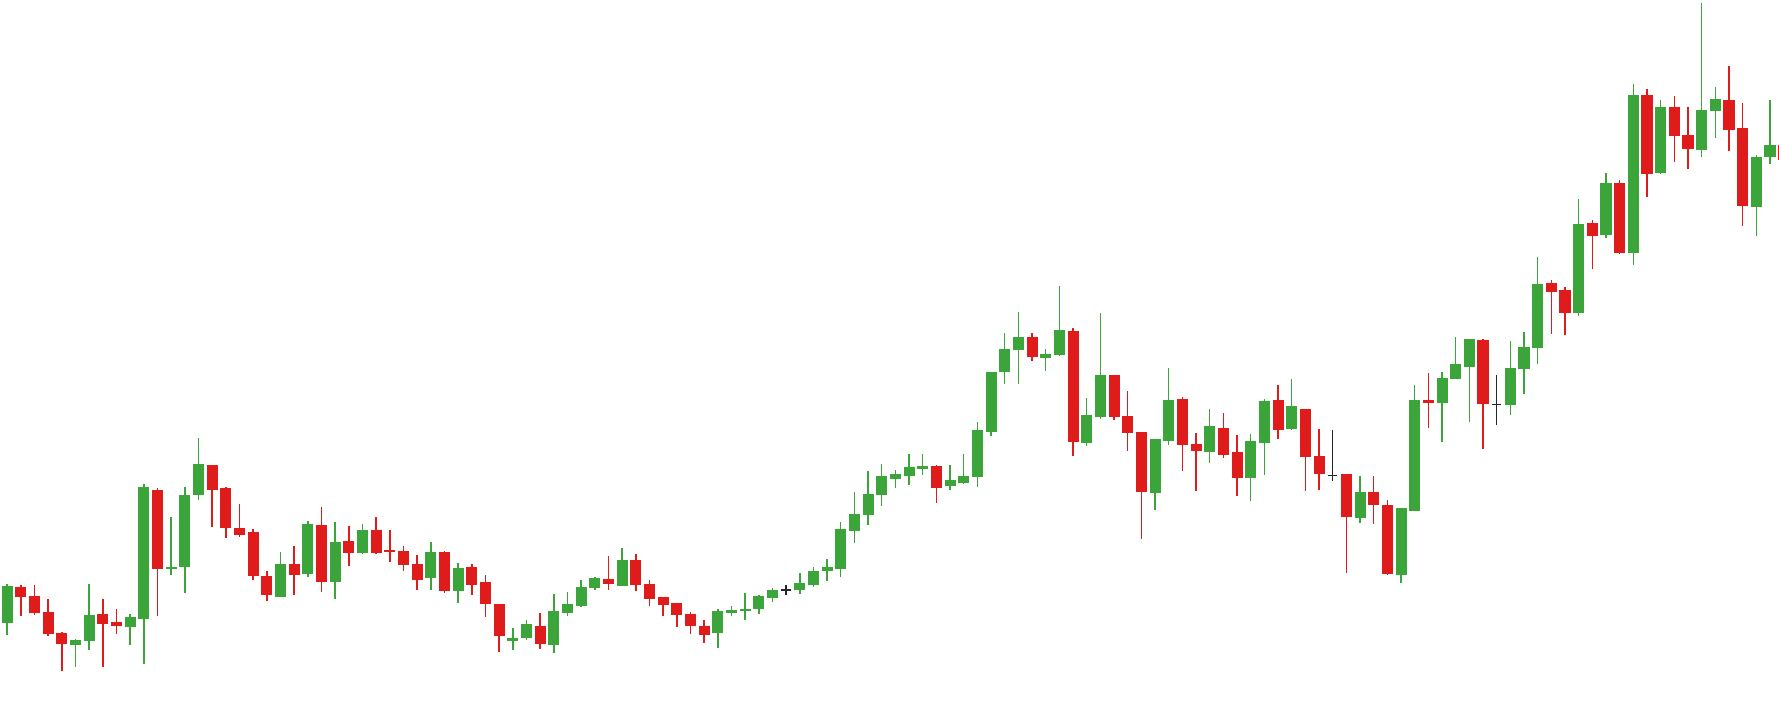buy: (1437, 370, 1503, 454)
sell: (140, 438, 219, 556)
